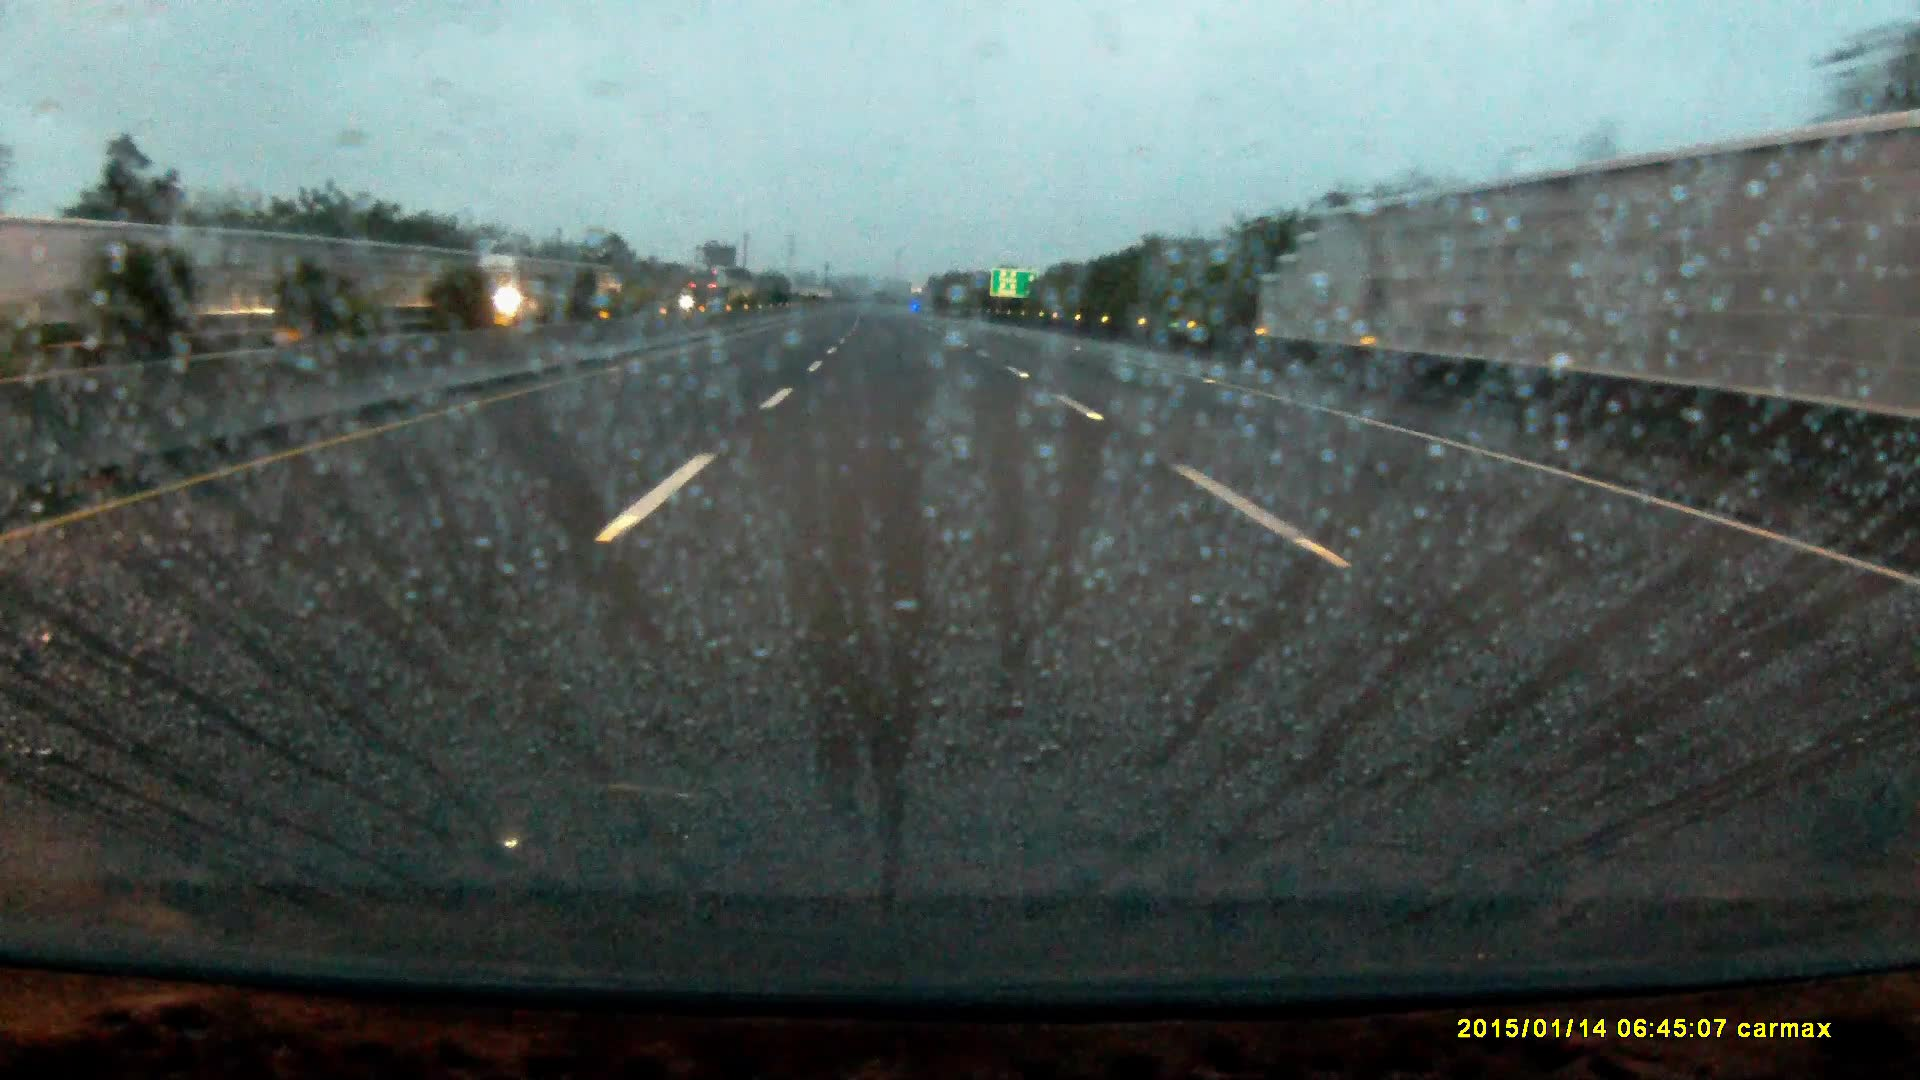vehicle: (473, 255, 562, 323), (688, 274, 732, 311)
